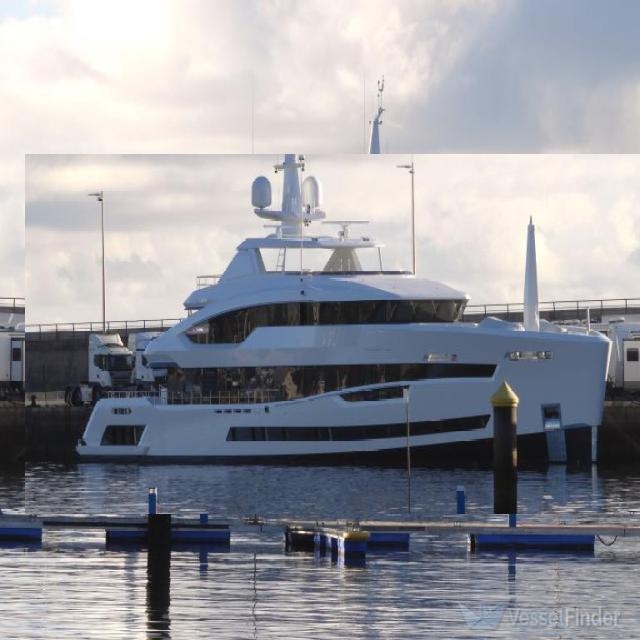PassengerShip: (25, 154, 640, 514)
